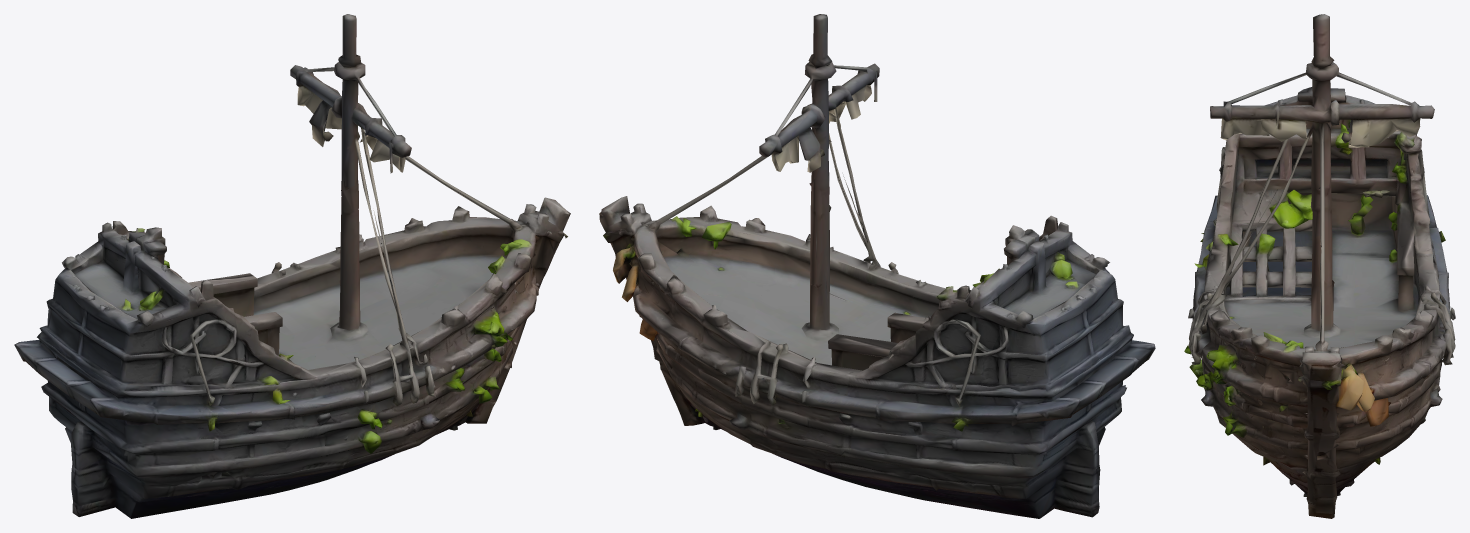
Rendered from env-wreck.glb.
3 renders of one model, left to right at view 1: azimuth 30°, elevation 25°; view 2: azimuth 150°, elevation 25°; view 3: azimuth 270°, elevation 25°, orthographic.
Visible parts, largest first — view 1: tripo_node_4fd4a9df-bdb7-4adf-9bc5-e8c69d8bfd2a; view 2: tripo_node_4fd4a9df-bdb7-4adf-9bc5-e8c69d8bfd2a; view 3: tripo_node_4fd4a9df-bdb7-4adf-9bc5-e8c69d8bfd2a.
Boxes of the visible parts, x1,y1,x2,y2 form: tripo_node_4fd4a9df-bdb7-4adf-9bc5-e8c69d8bfd2a: [14, 14, 570, 518]; tripo_node_4fd4a9df-bdb7-4adf-9bc5-e8c69d8bfd2a: [599, 14, 1155, 518]; tripo_node_4fd4a9df-bdb7-4adf-9bc5-e8c69d8bfd2a: [1184, 14, 1455, 518].
Size of the model in its own units: 1 by 0.812 by 0.454.
Materials: 1 (1 with a texture image).
